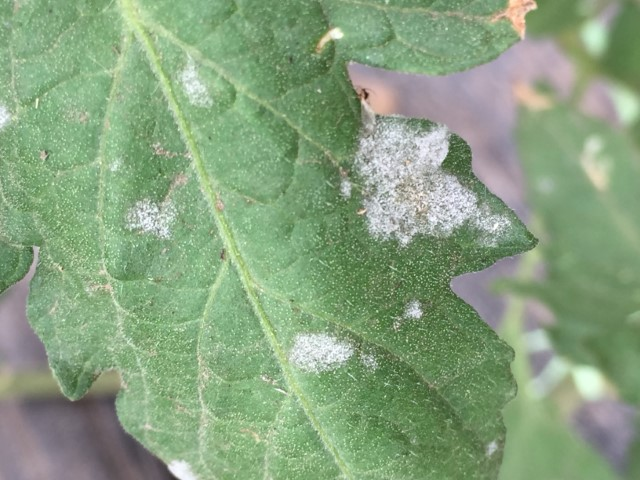oidio: (337, 116, 478, 251), (287, 331, 354, 377), (173, 50, 216, 110), (123, 197, 179, 242), (479, 202, 513, 250), (168, 458, 197, 480), (400, 300, 424, 321), (357, 351, 379, 373), (481, 435, 498, 459), (1, 101, 11, 129)
